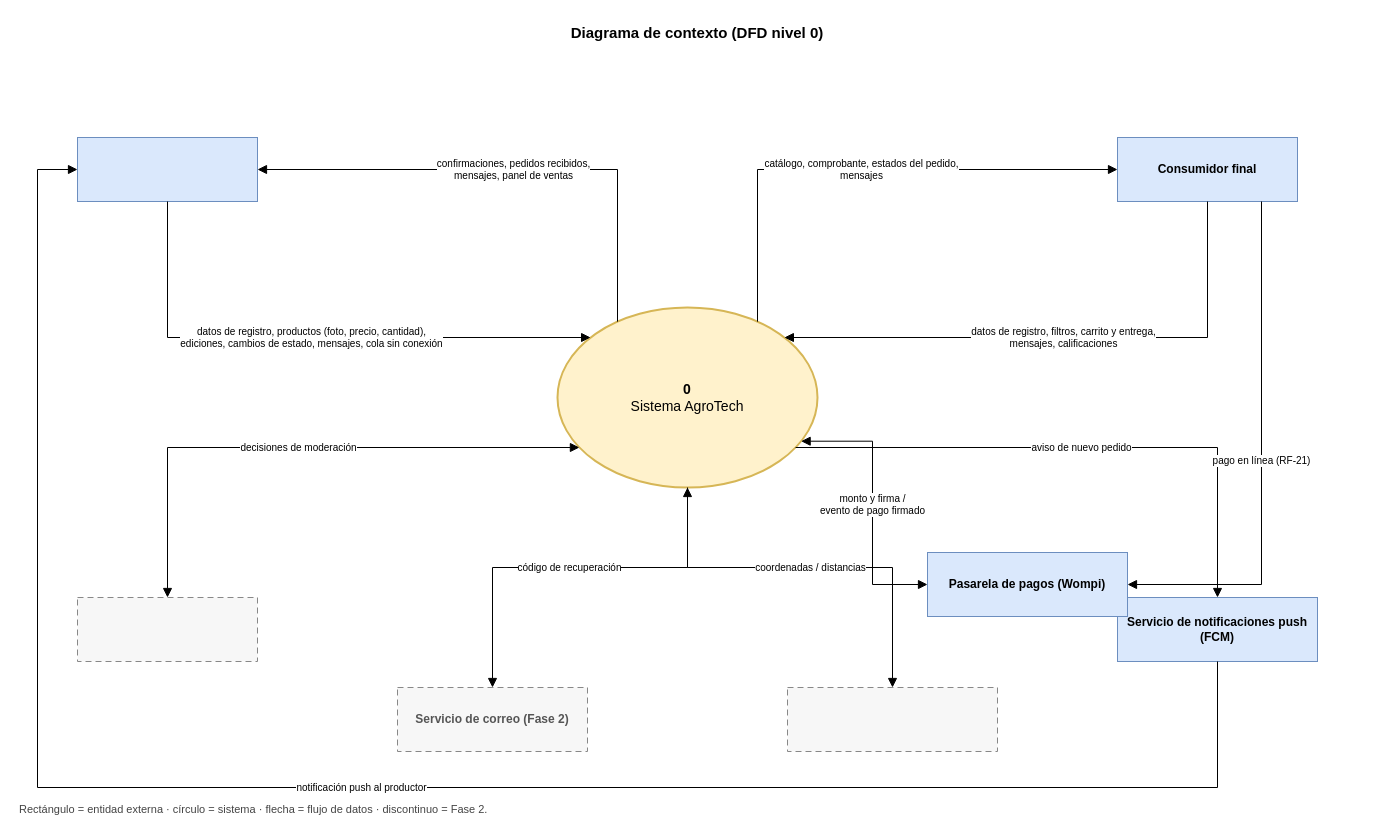
Image size: 1394x838. Some labels were removed from this diagram. The shapes that lost their labels are listed below. From the top down, each one's centre as x and y in pixels, then its label:
At pixel 167 169: "Productor agrícola".
At pixel 167 629: "Administrador (Fase 2)".
At pixel 892 719: "Servicio de geolocalización (Fase 2)".
